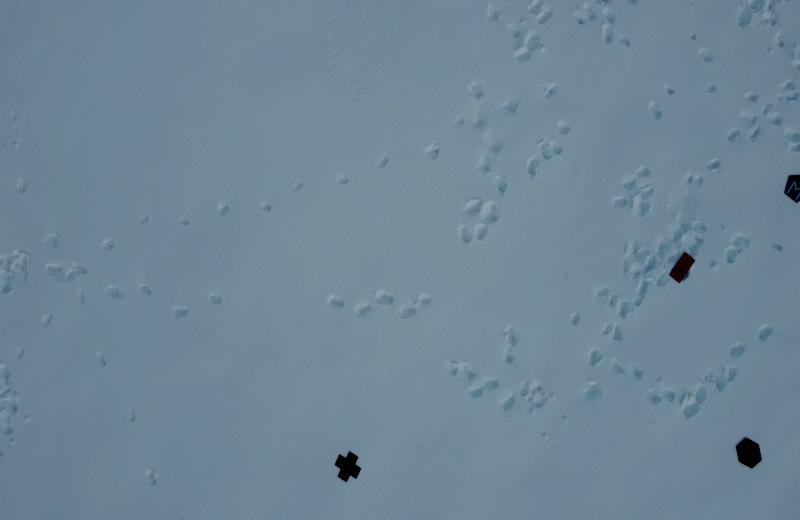Cross: (335, 450, 364, 486)
Hexagon: (733, 431, 763, 473)
Pentagon: (781, 166, 800, 208)
Rectangle: (666, 249, 698, 285)
